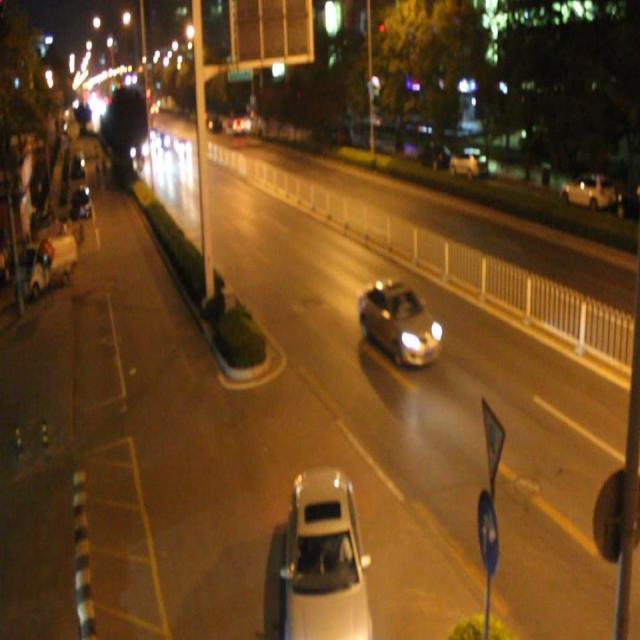car: (280, 464, 371, 640), (357, 276, 442, 368), (173, 137, 191, 156), (155, 132, 170, 150), (232, 115, 245, 134)
